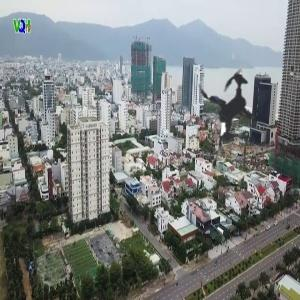drone: (157, 42, 298, 183)
